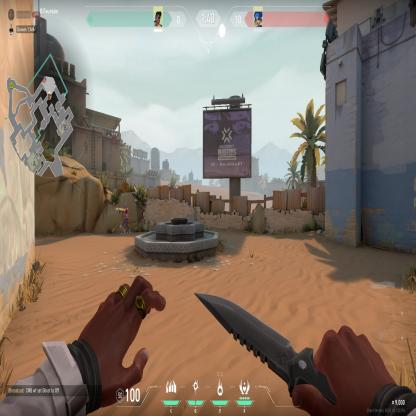enemy: (118, 201, 131, 235)
